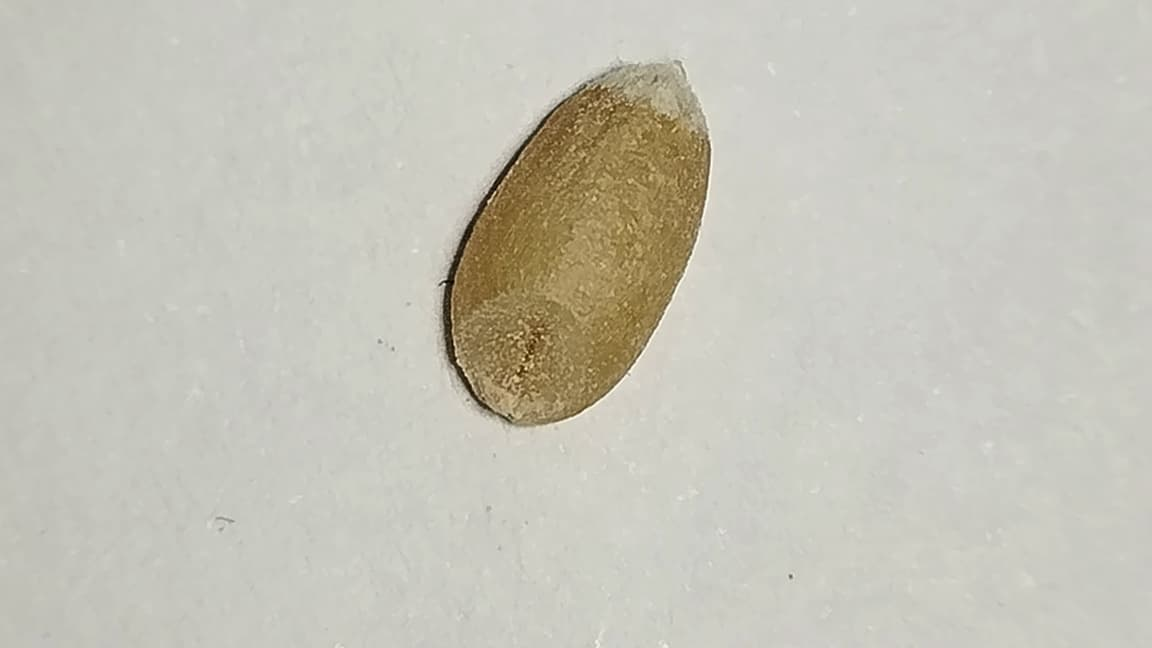damage: (439, 62, 710, 426)
insectdamage: (454, 273, 604, 424)
